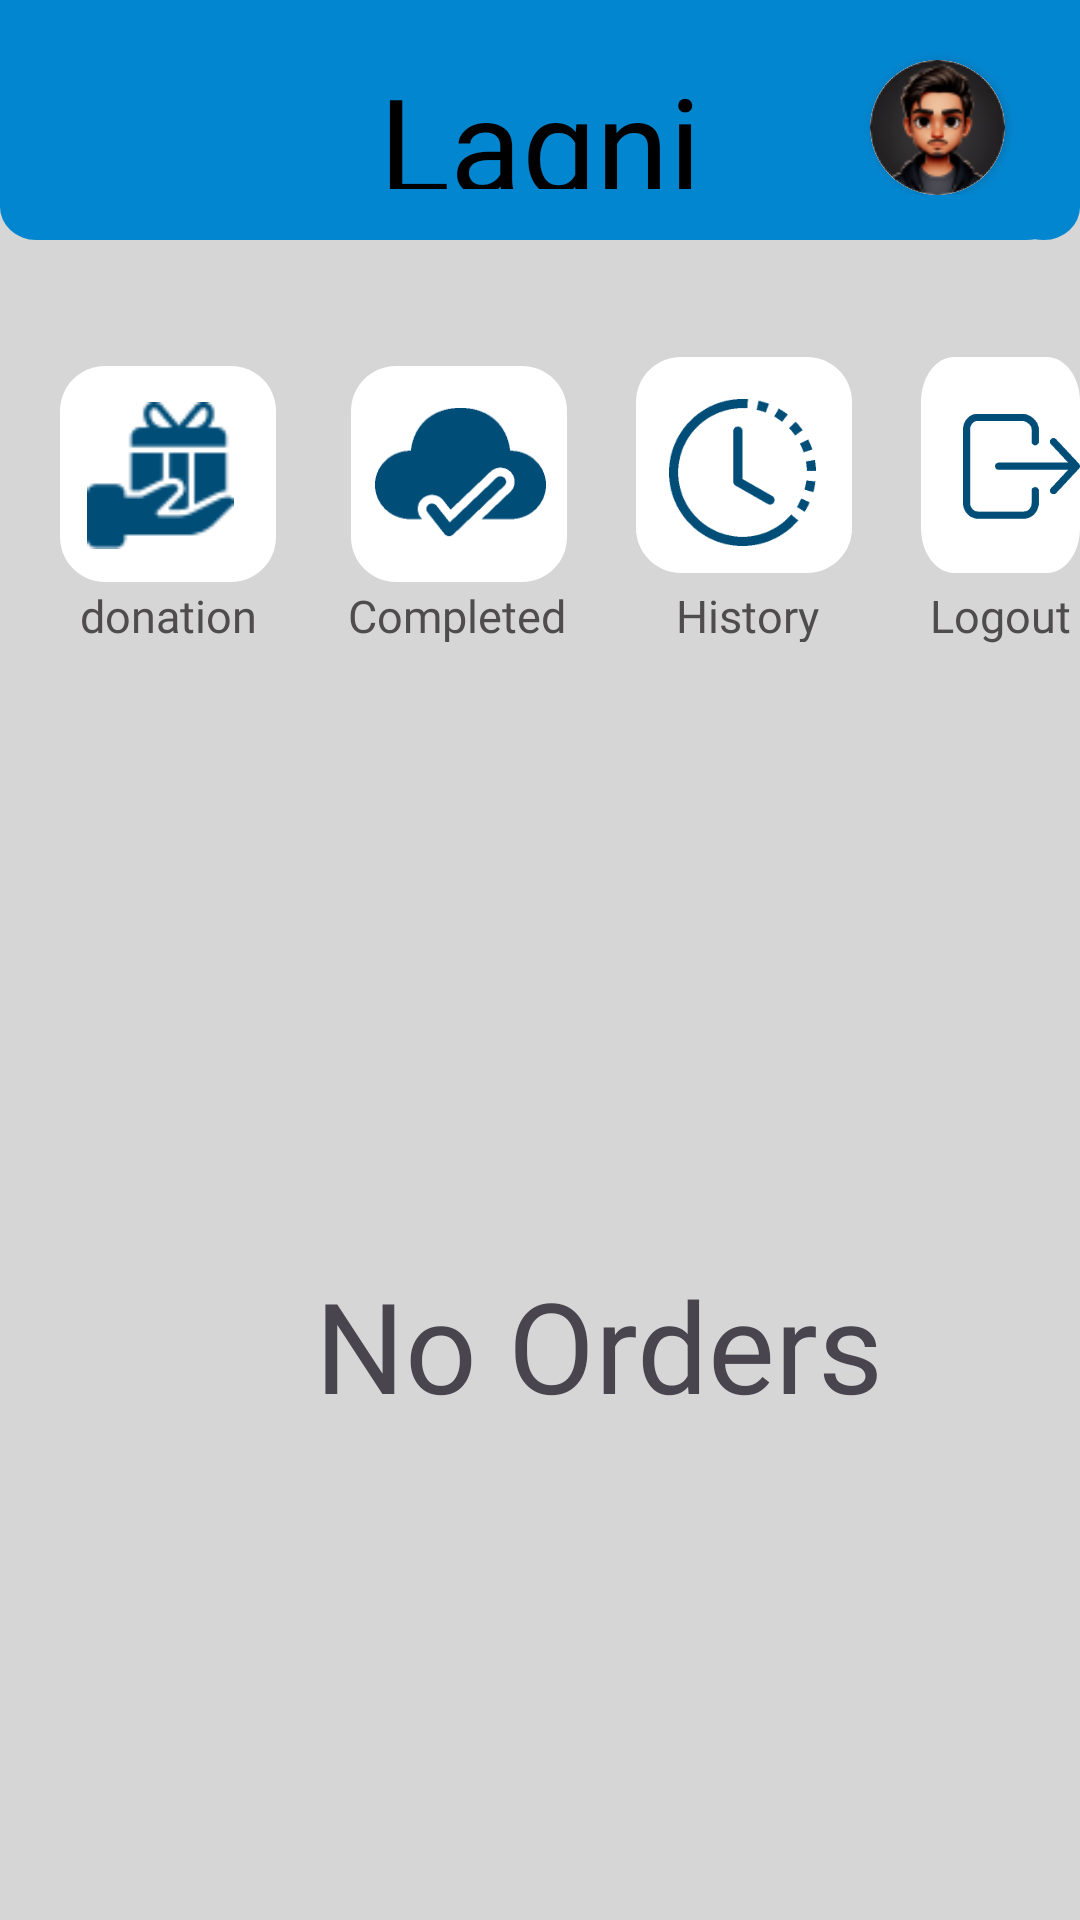

Screen size 1080 × 1920. Icon name, then its center in pixels as point (x, y):
clockicon: point (742, 472)
